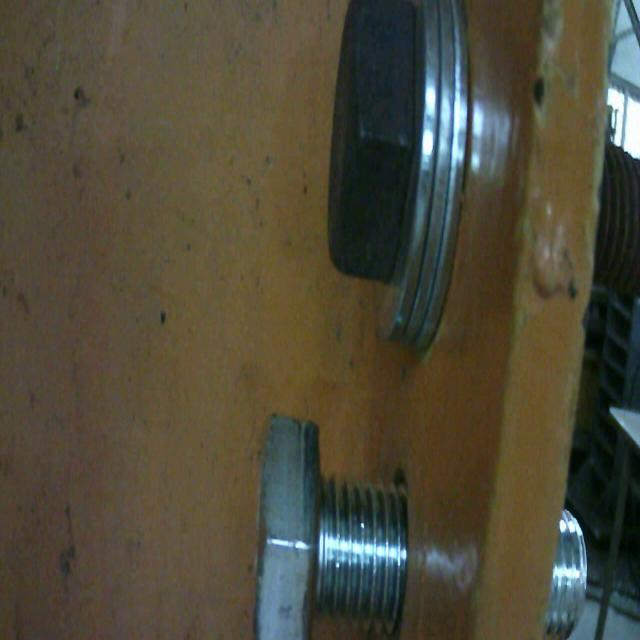Loose bolt: (265, 407, 412, 633)
Regular bolt: (258, 401, 413, 640)
Rusty bolt: (315, 4, 486, 349)
